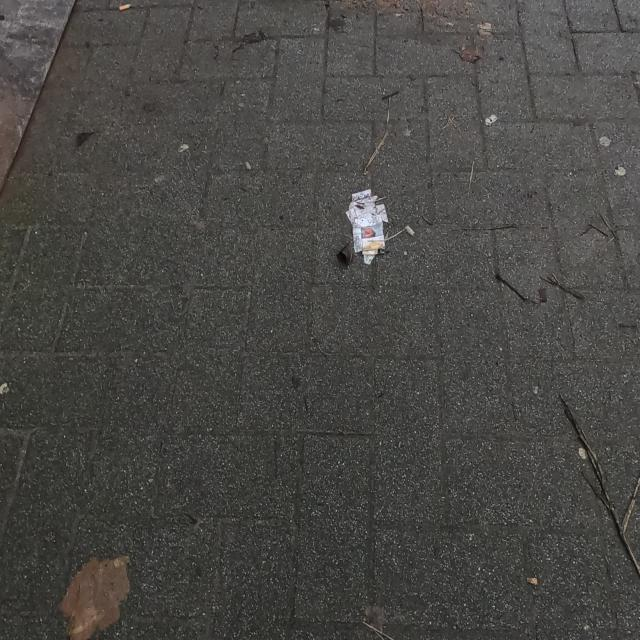Paper: (344, 186, 390, 266)
